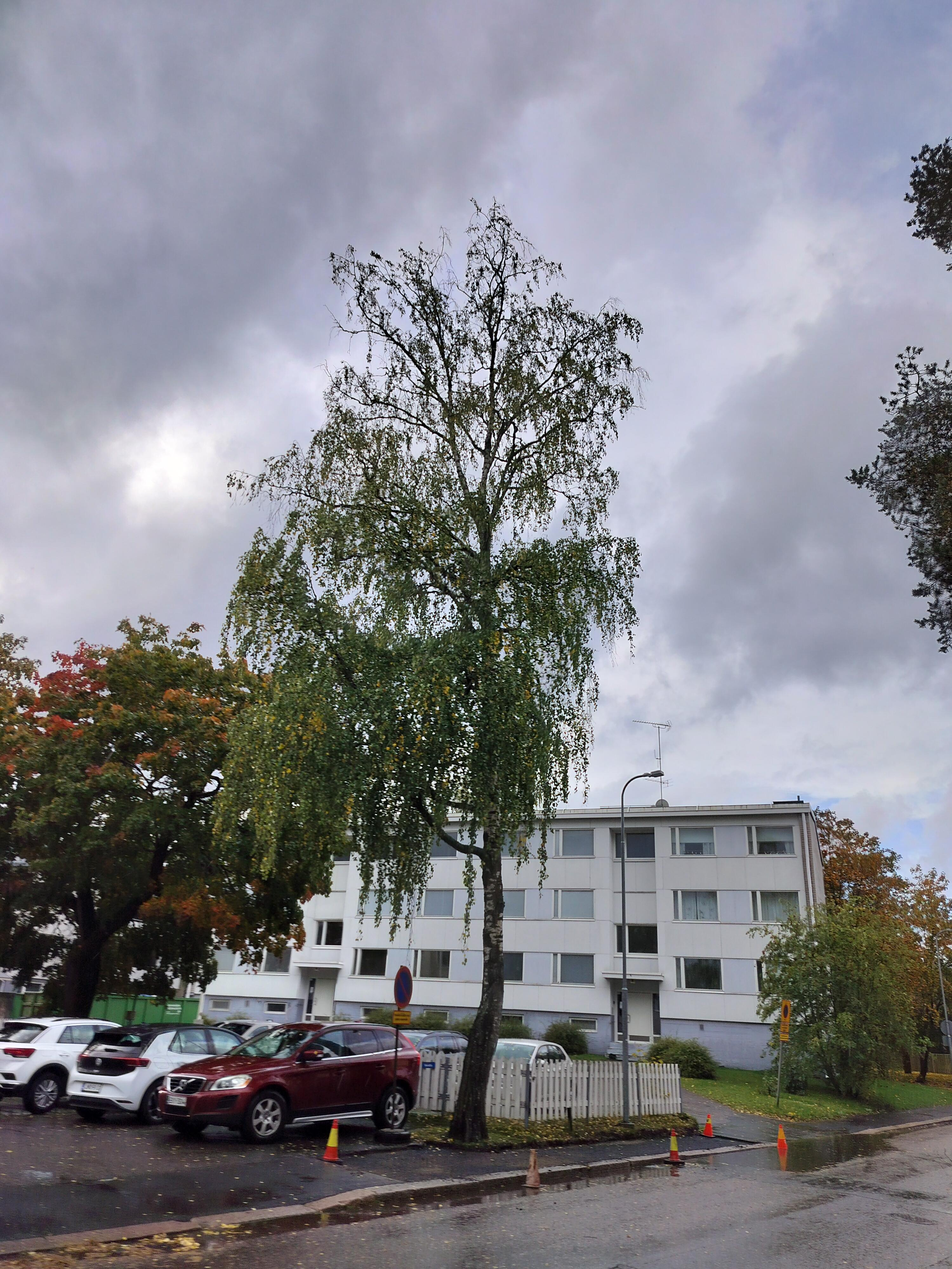Birch: (213, 192, 651, 1143)
